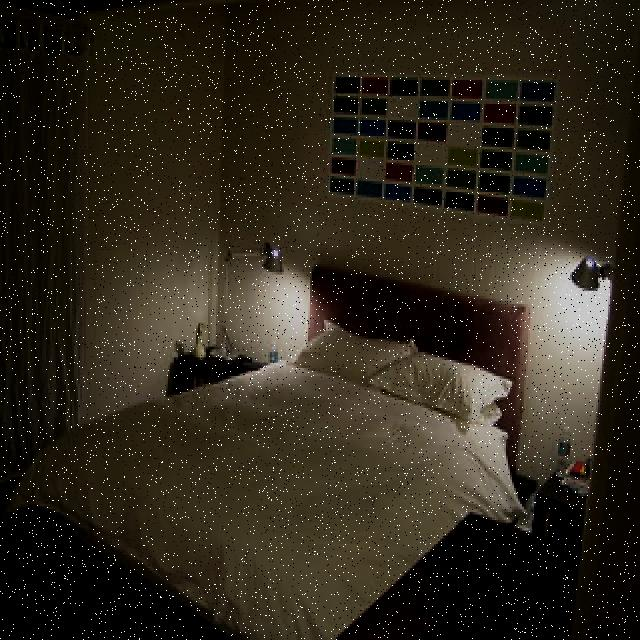bed: (7, 314, 529, 640)
